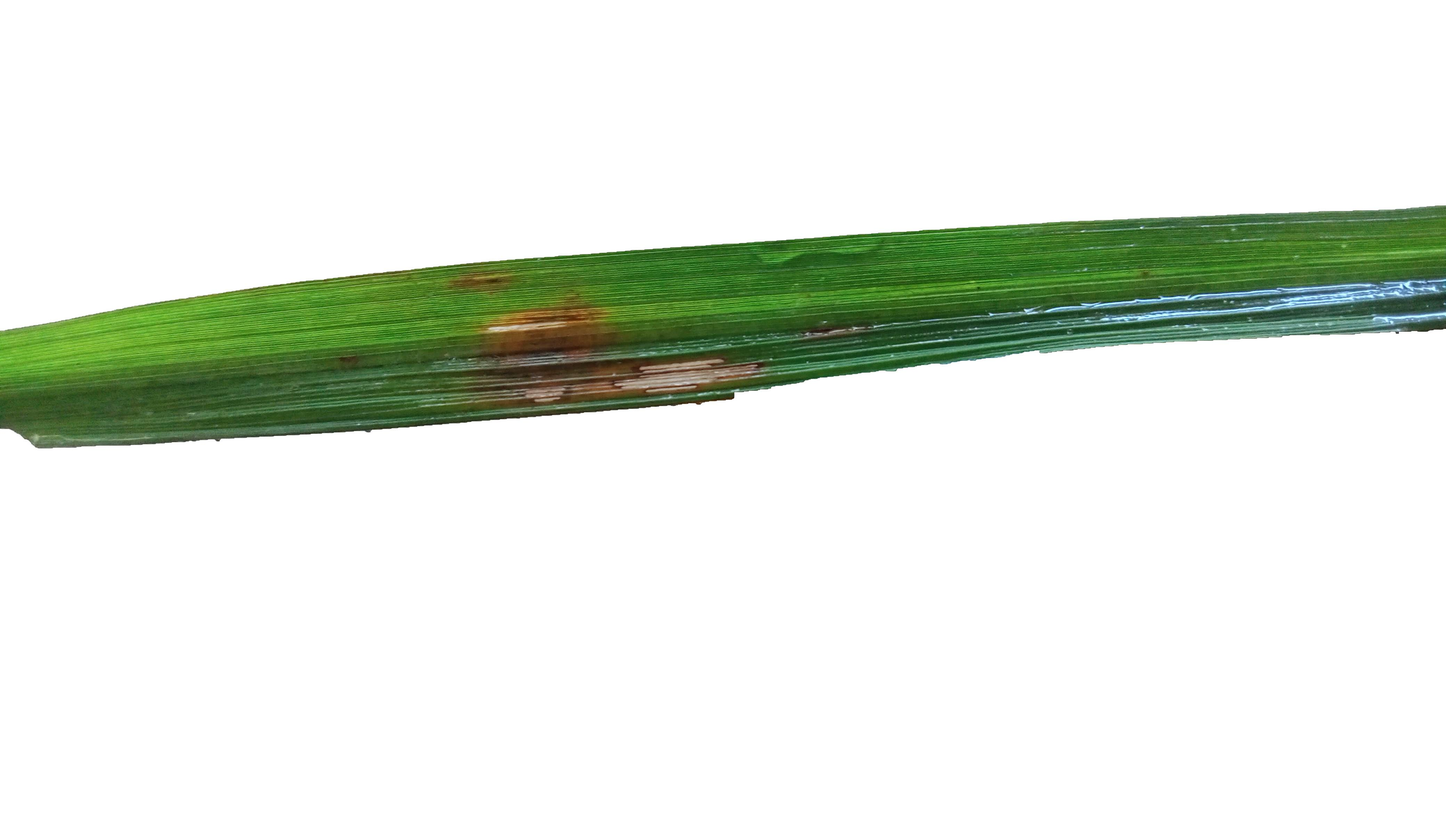Blight: (459, 302, 587, 393), (542, 335, 732, 394), (805, 299, 867, 356)
